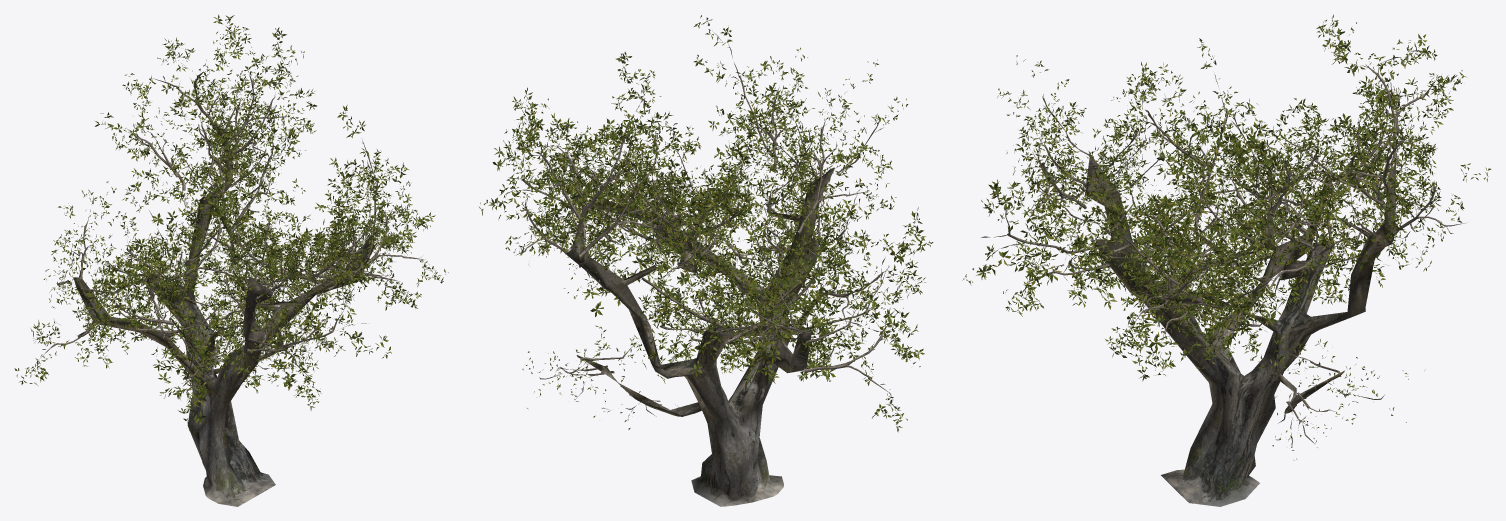
File: island_tree_01.glb
The picture shows the model from 3 angles, left to right: view 1: azimuth 30°, elevation 25°; view 2: azimuth 150°, elevation 25°; view 3: azimuth 270°, elevation 25°; orthographic projection. The views are drawn at different scales.
Visible parts, largest first — view 1: island_tree_01_LOD0; view 2: island_tree_01_LOD0; view 3: island_tree_01_LOD0.
Boxes of the visible parts, bbox=[...] form: island_tree_01_LOD0: bbox=[14, 14, 448, 506]; island_tree_01_LOD0: bbox=[479, 15, 933, 506]; island_tree_01_LOD0: bbox=[962, 14, 1491, 506].
Bounding box in the file's own units: 4.74 × 5.02 × 4.81.
3 materials, 3 textured.
